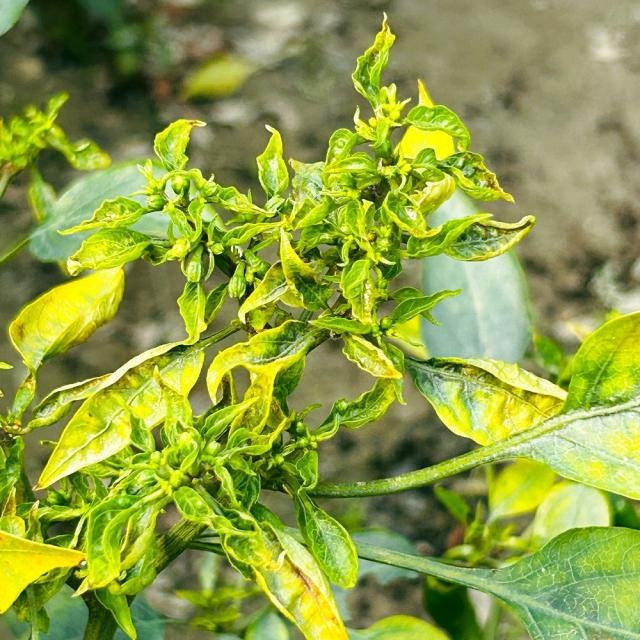Chilli_Leaf_Curl: (1, 11, 637, 638), (304, 310, 638, 503), (402, 353, 568, 448)
